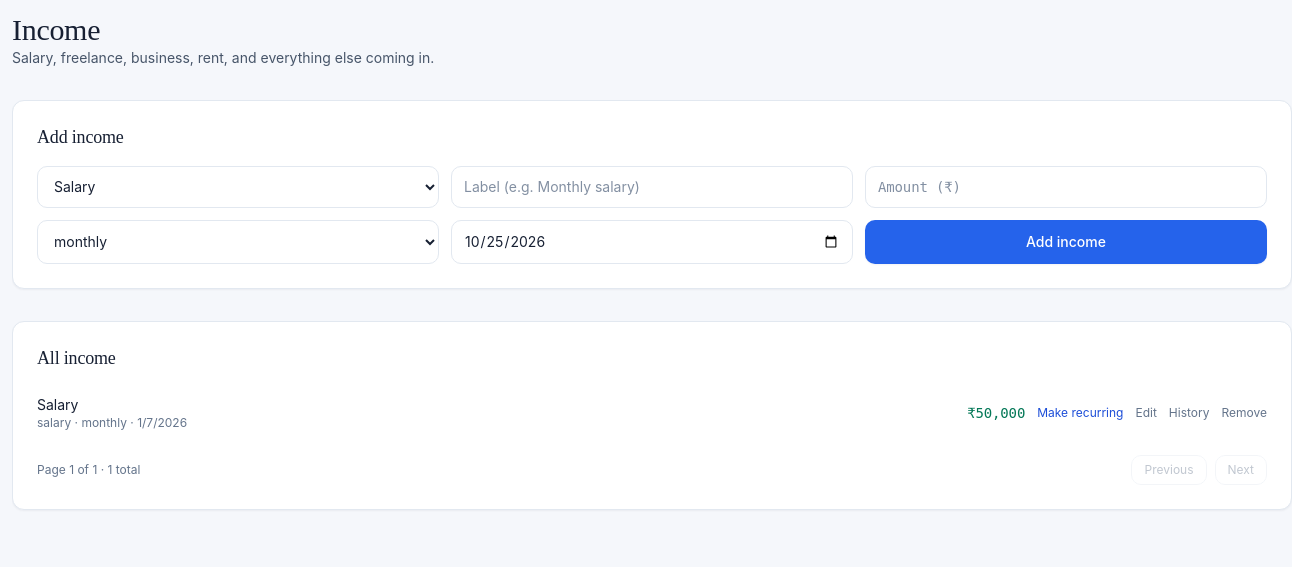
Scenario: IncomePage amount-change history (new, audit item #4) › collapses the panel when 'History' is clicked again
Step 1. Click the button "History" → (1189, 412), box [1169,404,1209,420]
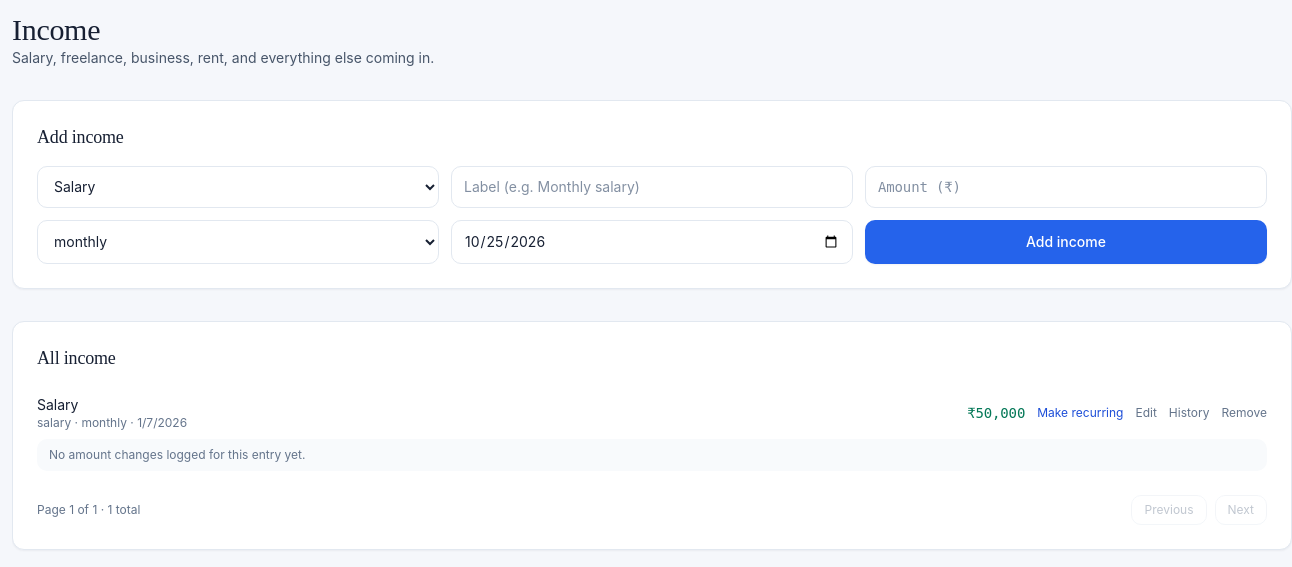
Expected: the text "No amount changes logged for this entry yet." is shown, [49,446,306,462]
Step 2. Click the button "History" → (1189, 412), box [1169,404,1209,420]
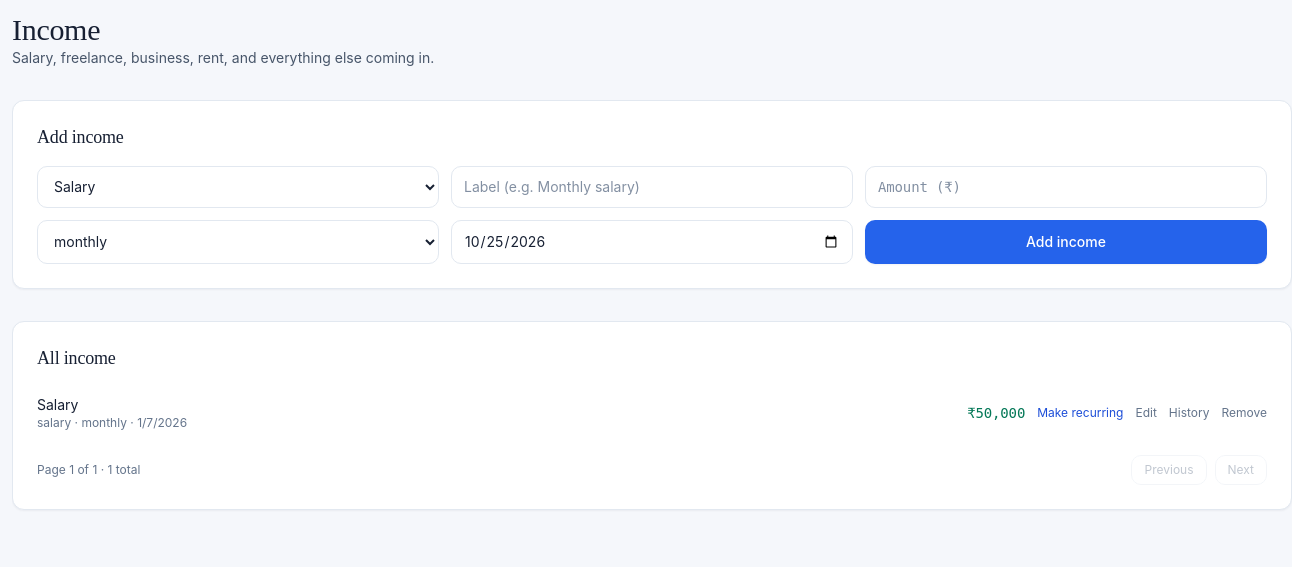
Expected: the text "No amount changes logged" is gone
